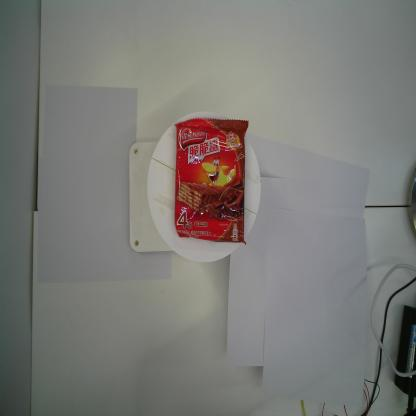Dessert: (173, 117, 250, 247)
